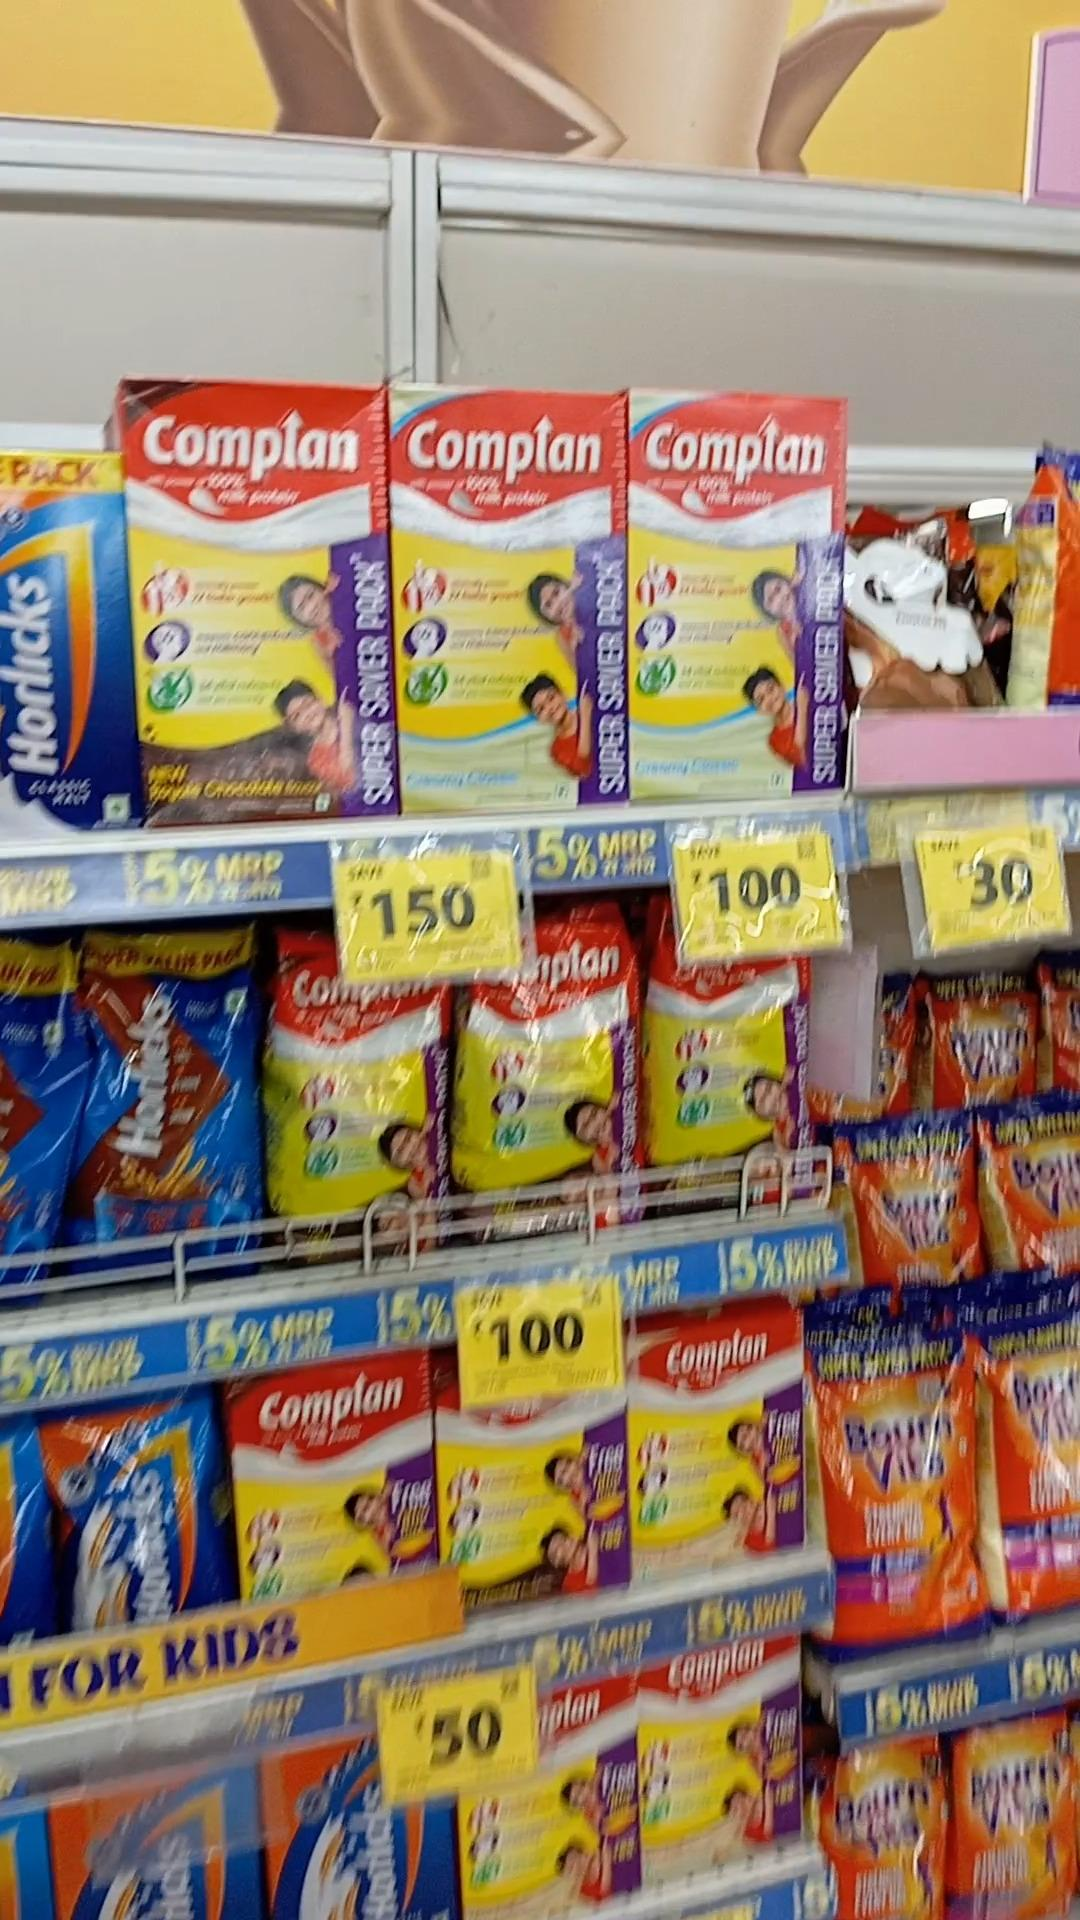BOURN_VITA_1_KG_POUCH: (816, 1327, 981, 1655)
BOURN_VITA_500_G_POUCH: (957, 1724, 1080, 1919), (825, 1738, 948, 1920)
COMPLAN_CHOCOLATE_1_KG_PACK: (133, 381, 392, 819)
COMPLAN_CHOCOLATE_500_GMS_PACK: (435, 1383, 633, 1598), (239, 1369, 426, 1589)
COMPLAN_KESAR_BADAM_500_GMS_PACK: (637, 1324, 804, 1561), (636, 1648, 808, 1862)
COMPLAN_RC_POUCH_700_GMS_12: (269, 922, 456, 1259), (463, 923, 645, 1230), (649, 943, 814, 1209)
HORLICK_CHOCOLATE_750_G_POUCH: (73, 934, 262, 1275)
HORLICK_CLASSIC_MALT_750_G_POUCH: (50, 1391, 231, 1625)
